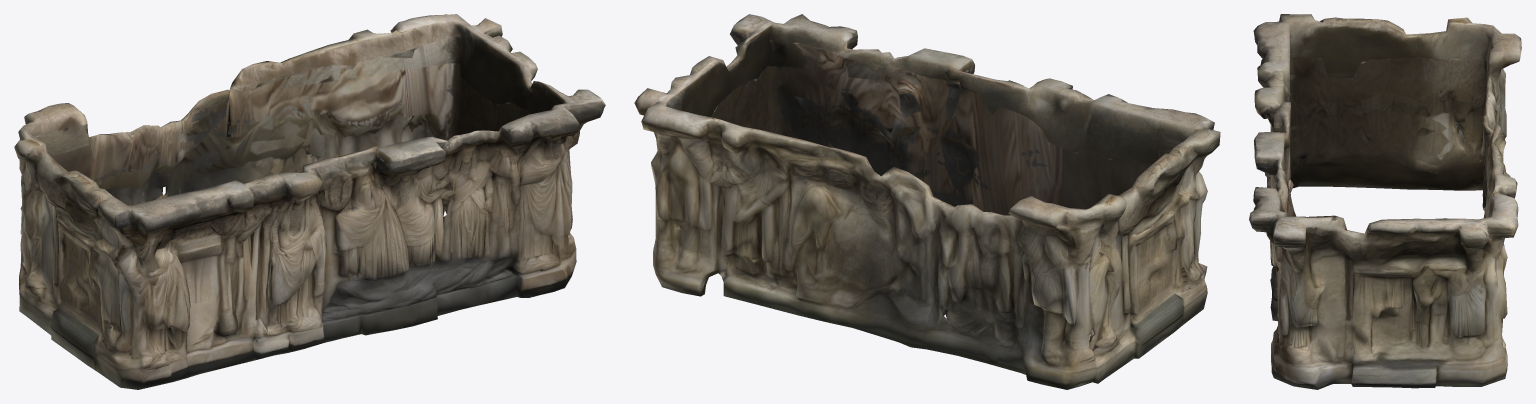
Rendered from Akhilleus Lahdi.glb.
3 views of the same model, side by side, from view 1: azimuth 30°, elevation 25°; view 2: azimuth 150°, elevation 25°; view 3: azimuth 270°, elevation 25° (orthographic). The views are drawn at different scales.
Bounding box in the file's own units: 2 × 0.7148 × 1.05.
1 material, 1 textured.
